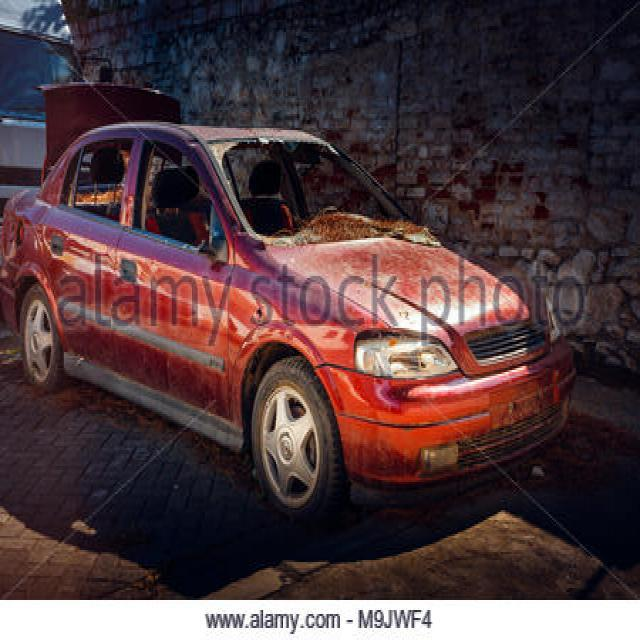Front-Windscreen-Damage: (178, 114, 430, 252)
